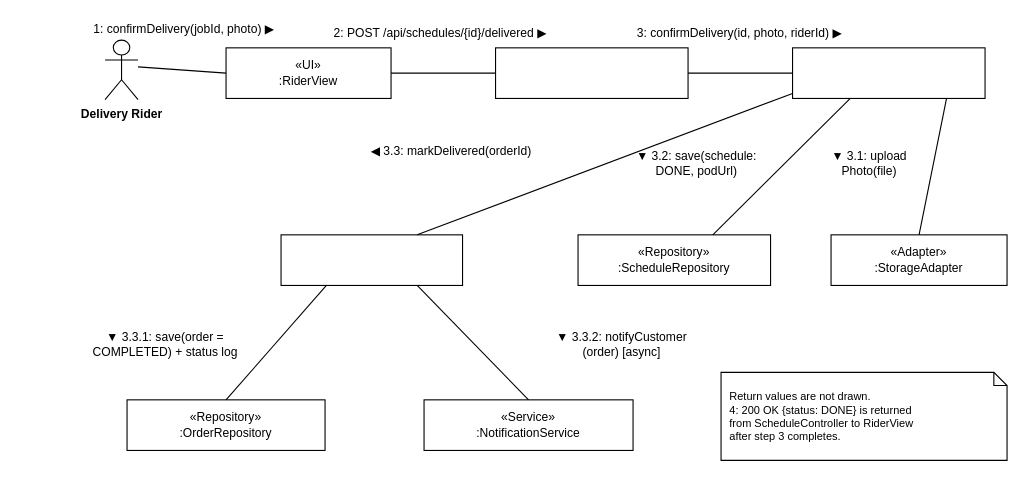
The diagram is 1026 pixels wide and 480 high, and some of its shapes have lost their labels. The shapes that lost their labels are listed below. From the top down, each one's centre as x and y in pixels, then its label:
At pixel 591 72: "«Controller» :ScheduleController".
At pixel 888 72: "«Service» :ScheduleService".
At pixel 371 259: "«Service» :OrderService".
